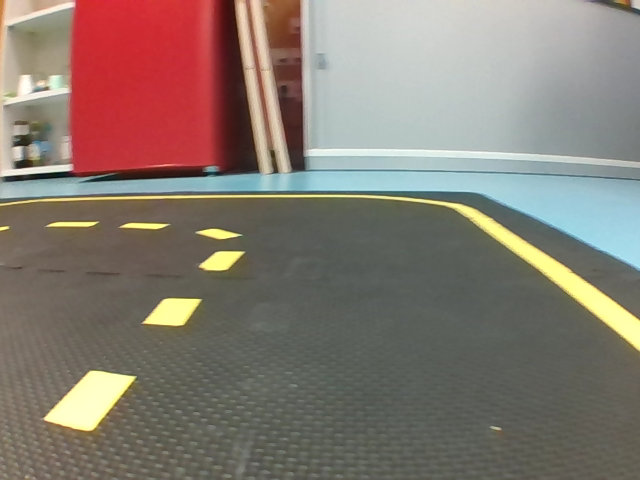stop: (270, 77, 302, 150)
